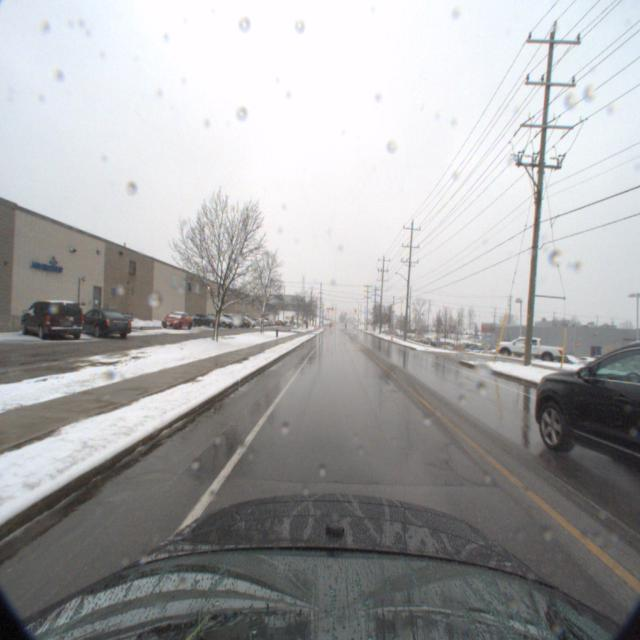Car: (11, 291, 86, 335), (63, 301, 134, 335), (157, 304, 193, 324), (185, 307, 223, 324)
Truck: (492, 334, 567, 364)
